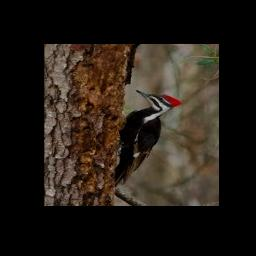Woodpecker: (114, 90, 181, 186)
